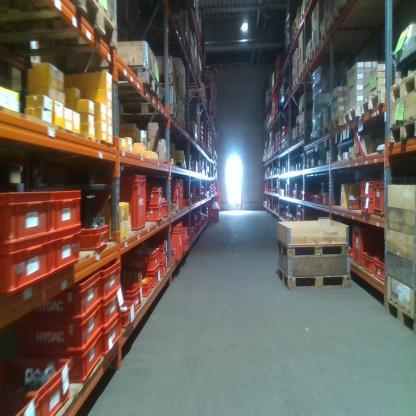pallet: (2, 1, 118, 54), (68, 68, 162, 104), (277, 234, 350, 256), (277, 269, 351, 287), (384, 293, 413, 334), (115, 107, 176, 125), (388, 70, 415, 104), (386, 118, 415, 146), (363, 90, 388, 117), (155, 69, 176, 98), (343, 101, 361, 131), (330, 116, 344, 139), (328, 10, 342, 30), (317, 125, 331, 143), (172, 111, 182, 131), (176, 85, 186, 103), (313, 41, 320, 65), (320, 27, 328, 46), (303, 1, 317, 11), (306, 52, 312, 72), (299, 62, 305, 82), (291, 75, 298, 92)
small_load_carrier: (27, 269, 103, 321), (24, 304, 102, 351), (7, 361, 71, 416), (1, 190, 56, 250), (1, 238, 55, 299), (103, 170, 149, 240), (57, 334, 103, 384), (51, 227, 83, 274), (50, 191, 84, 233), (79, 223, 111, 261), (122, 247, 163, 272), (352, 226, 375, 270), (103, 315, 127, 353), (100, 289, 122, 328), (1, 393, 38, 416), (119, 281, 146, 304), (104, 260, 121, 296), (118, 299, 135, 332), (169, 222, 182, 263), (361, 249, 381, 275), (130, 274, 153, 294), (372, 178, 384, 215), (150, 238, 166, 264), (176, 179, 186, 215), (146, 185, 161, 207), (360, 176, 376, 196), (146, 206, 161, 225), (373, 257, 386, 277), (159, 203, 171, 223), (359, 198, 372, 213), (150, 268, 162, 284), (347, 198, 361, 211), (169, 186, 178, 198), (322, 192, 331, 204), (169, 177, 178, 188), (183, 236, 190, 250), (212, 207, 219, 221), (181, 227, 187, 243), (192, 184, 197, 203)
